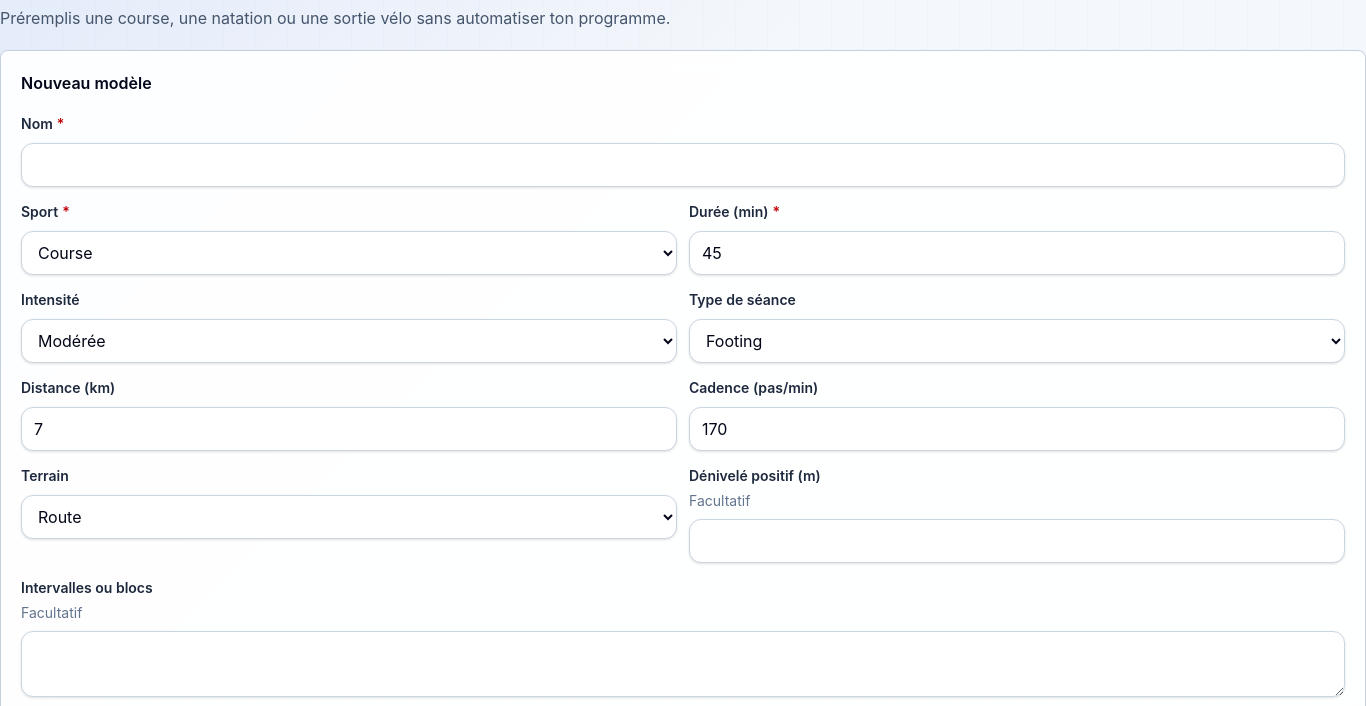
Test: EnduranceTemplatesPage › protège le brouillon avant de charger un autre modèle
Type "Brouillon endurance" into the field labelled "Nom*".
click(683, 165); type("Brouillon endurance")  # box x1=21 y1=143 x2=1345 y2=187
(page scrolled)
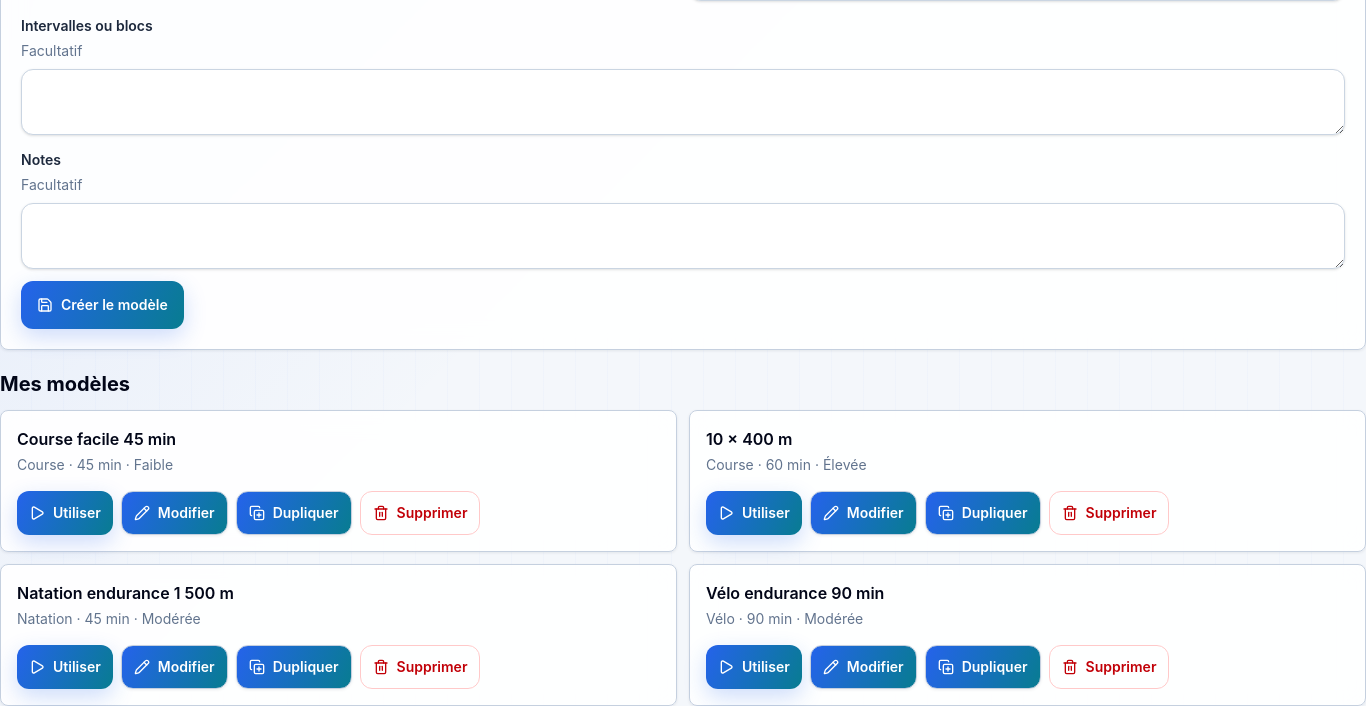
Click the button "Modifier" below "Natation endurance 1 500 m".
click(174, 667)  # box x1=121 y1=645 x2=228 y2=689
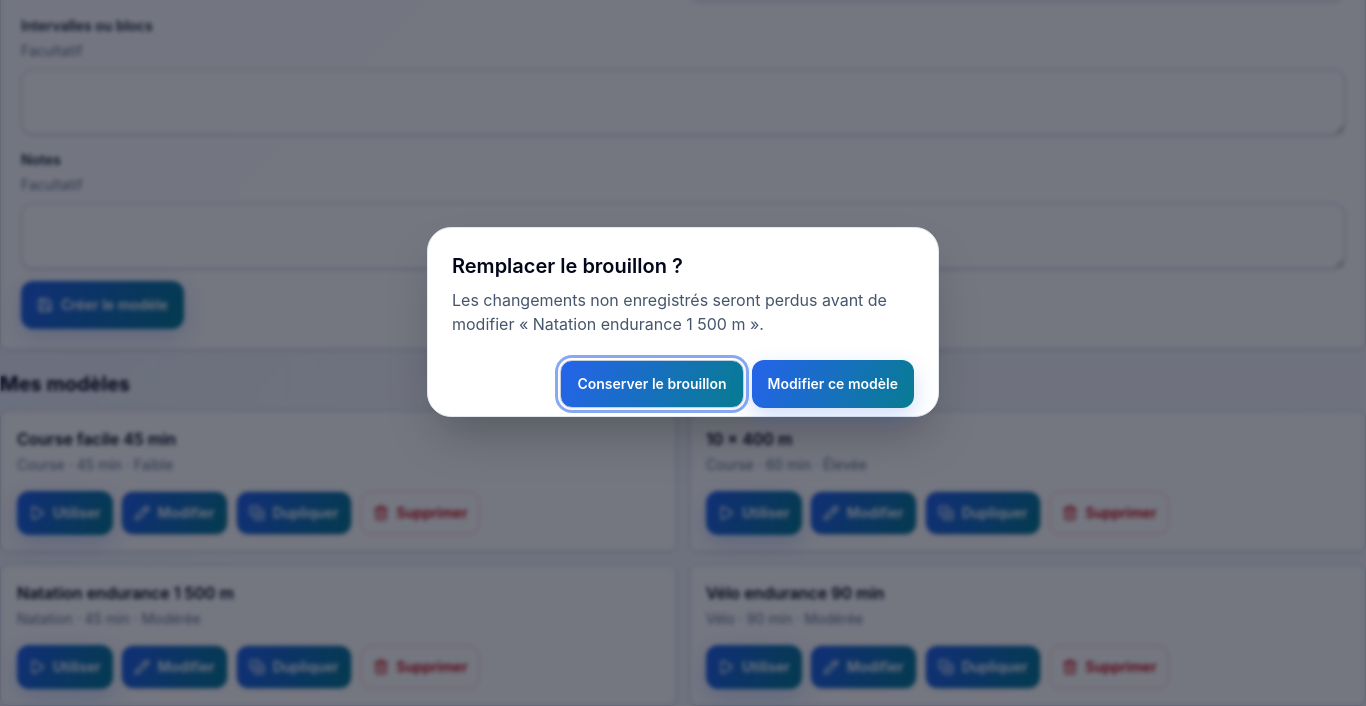
expect the dialog "Remplacer le brouillon ?" is shown: met, box x1=427 y1=227 x2=939 y2=417
Click the button "Conserver le brouillon".
click(652, 384)  # box x1=560 y1=360 x2=744 y2=408
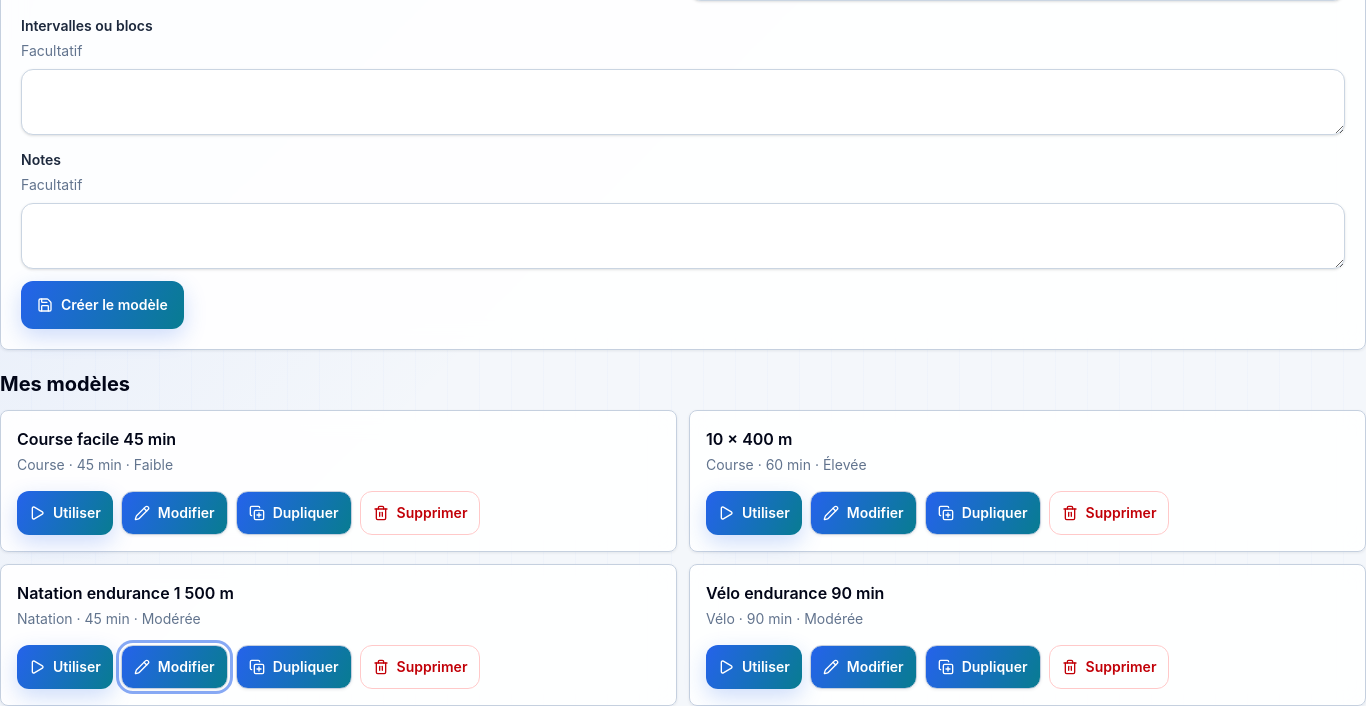
expect the heading "Remplacer le brouillon ?" is gone: met
Click the button "Modifier" below "Natation endurance 1 500 m".
click(174, 667)  # box x1=121 y1=645 x2=228 y2=689
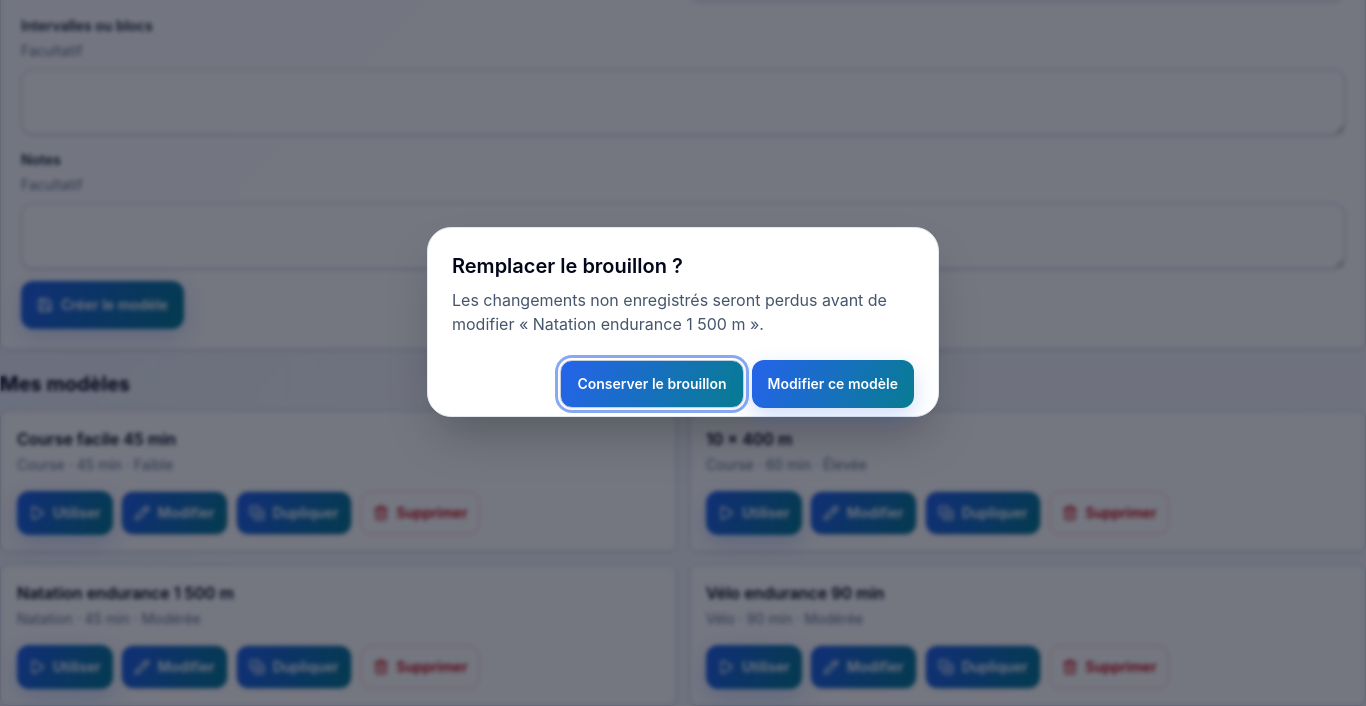
Click the button "Modifier ce modèle".
click(833, 384)  # box x1=752 y1=360 x2=914 y2=408
(page scrolled)
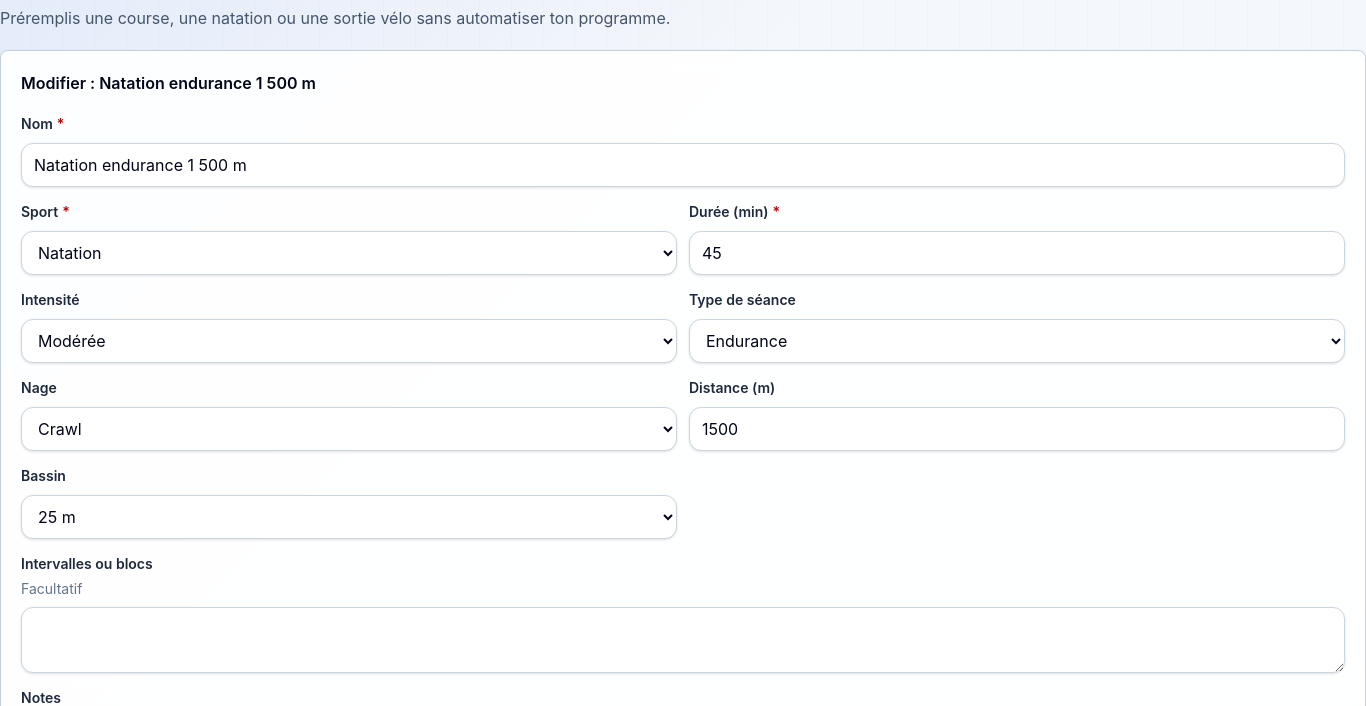
expect the field labelled "Nom*" holds "Natation endurance 1 500 m": met, box x1=21 y1=143 x2=1345 y2=187
